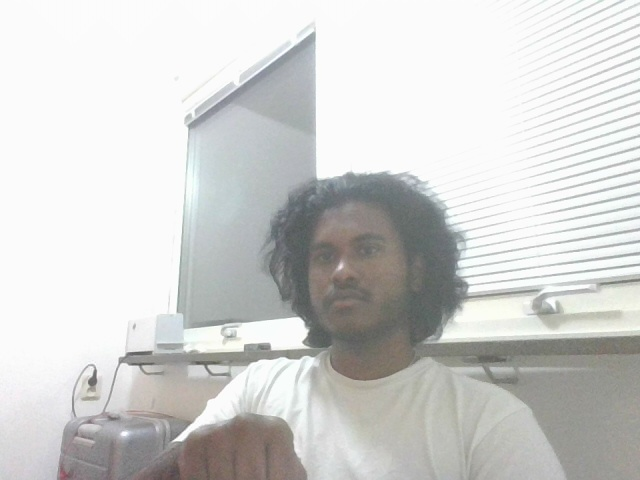Yes: (161, 406, 329, 479)
